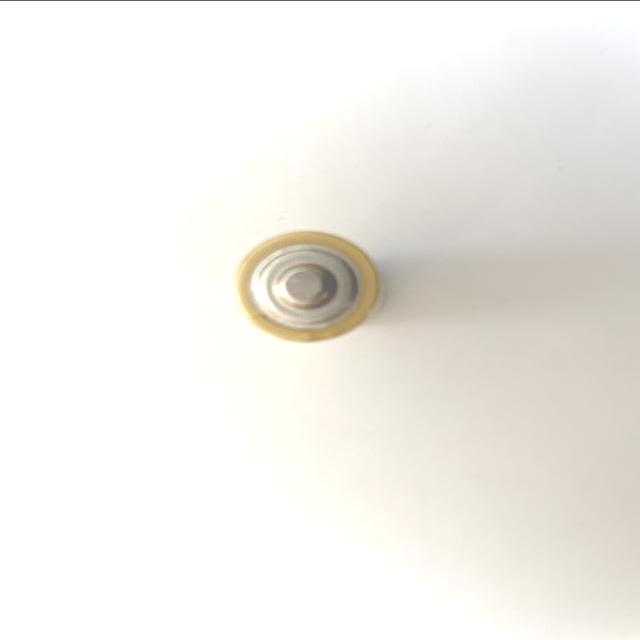AA: (233, 226, 392, 344)
